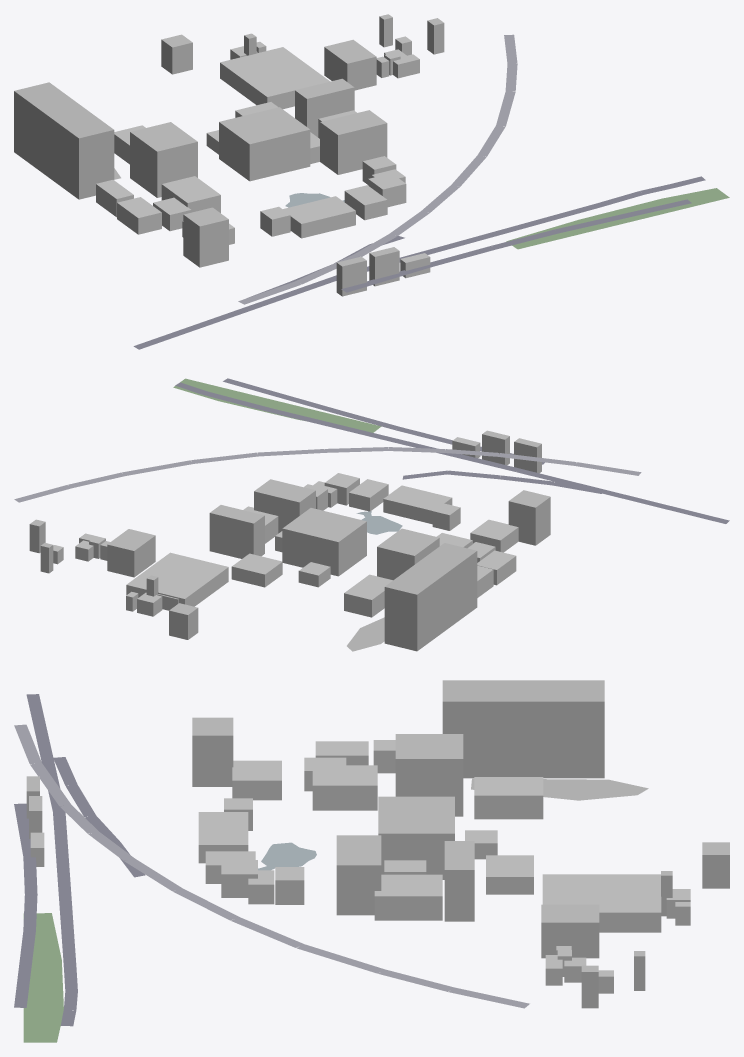
File: 128_88_mid.glb
3 views of the same model, one above another, from view 1: azimuth 30°, elevation 25°; view 2: azimuth 150°, elevation 25°; view 3: azimuth 270°, elevation 25° (orthographic). The views are drawn at different scales.
Bounding box in the file's own units: 605 × 62.07 × 509.
